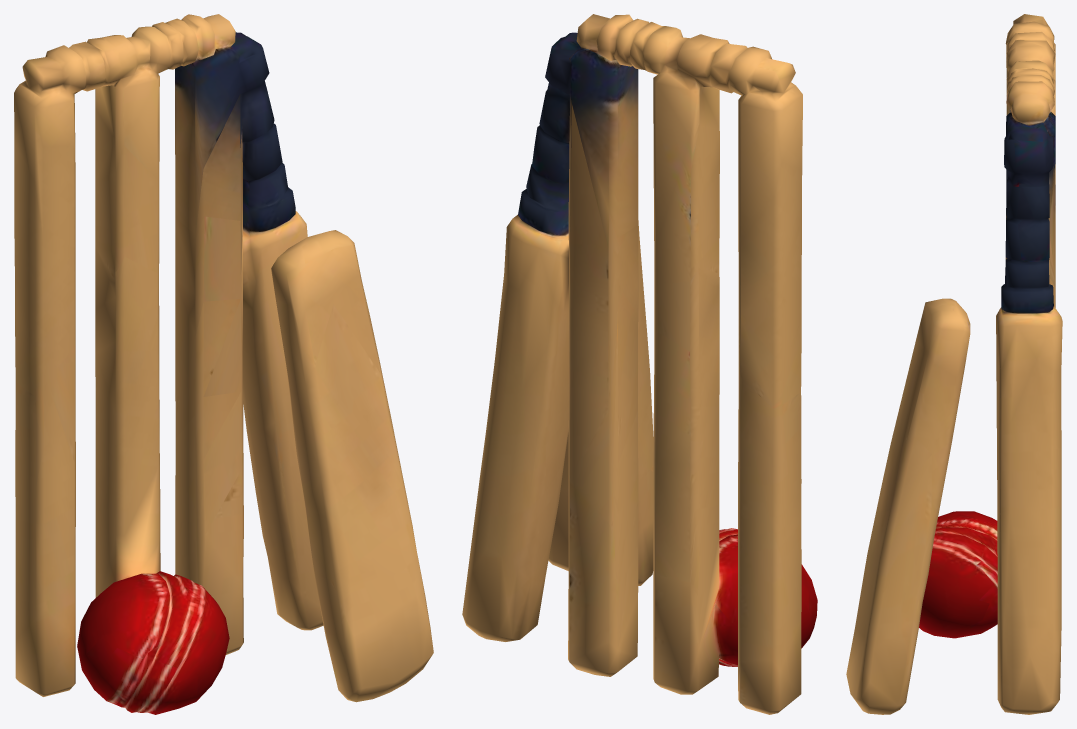
File: cricket.glb
3 views of the same model, side by side, from view 1: azimuth 30°, elevation 25°; view 2: azimuth 150°, elevation 25°; view 3: azimuth 270°, elevation 25° (orthographic). The views are drawn at different scales.
Visible parts, largest first — view 1: model; view 2: model; view 3: model.
Part boxes in pixels (box(x1,y1,x2,y2)): model: box(14, 14, 433, 714); model: box(462, 14, 817, 714); model: box(846, 14, 1062, 714).
Size of the model in its own units: 1 by 1.9 by 0.6371.
Materials: 1 (1 with a texture image).
